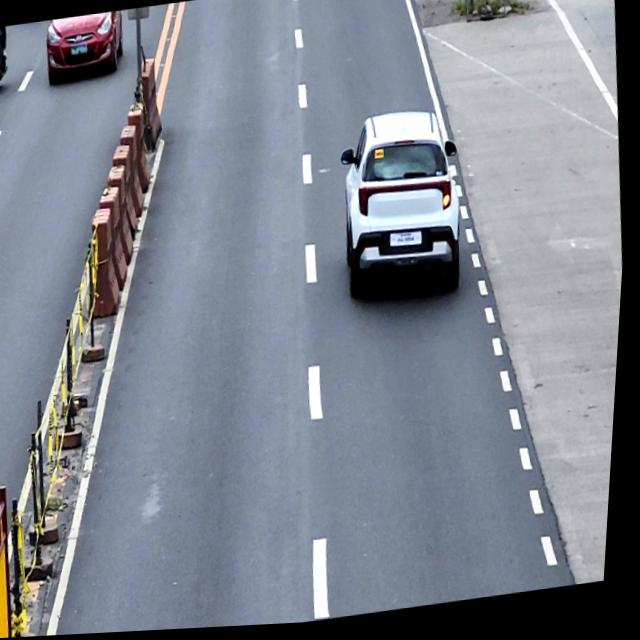Car: (332, 106, 477, 318), (41, 10, 129, 85)
License-Plate: (390, 230, 427, 255), (70, 43, 89, 57)
Motorcycle: (0, 25, 12, 100)
